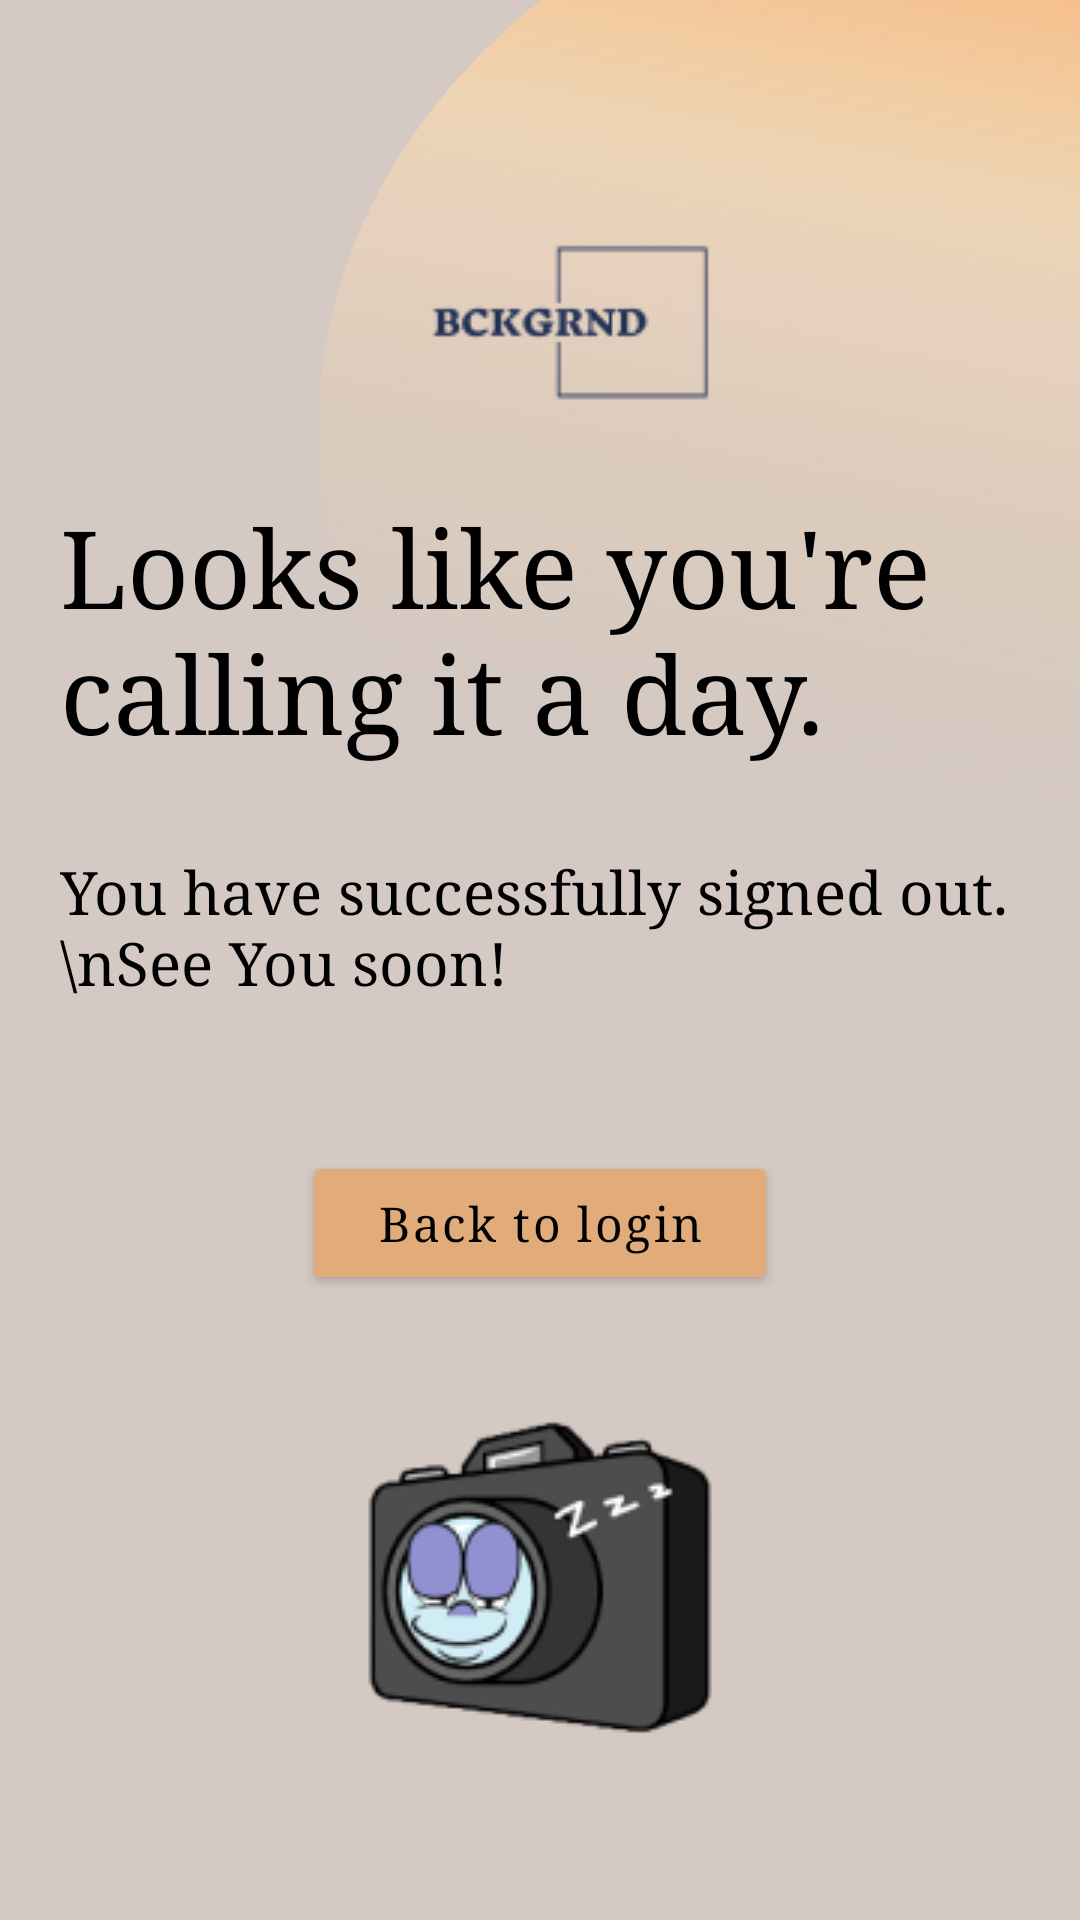

Icon bounding boxes for this 1080*1920 phone screenshot, format (x1, y1, x2, y2):
camera: (368, 1422, 712, 1733)
